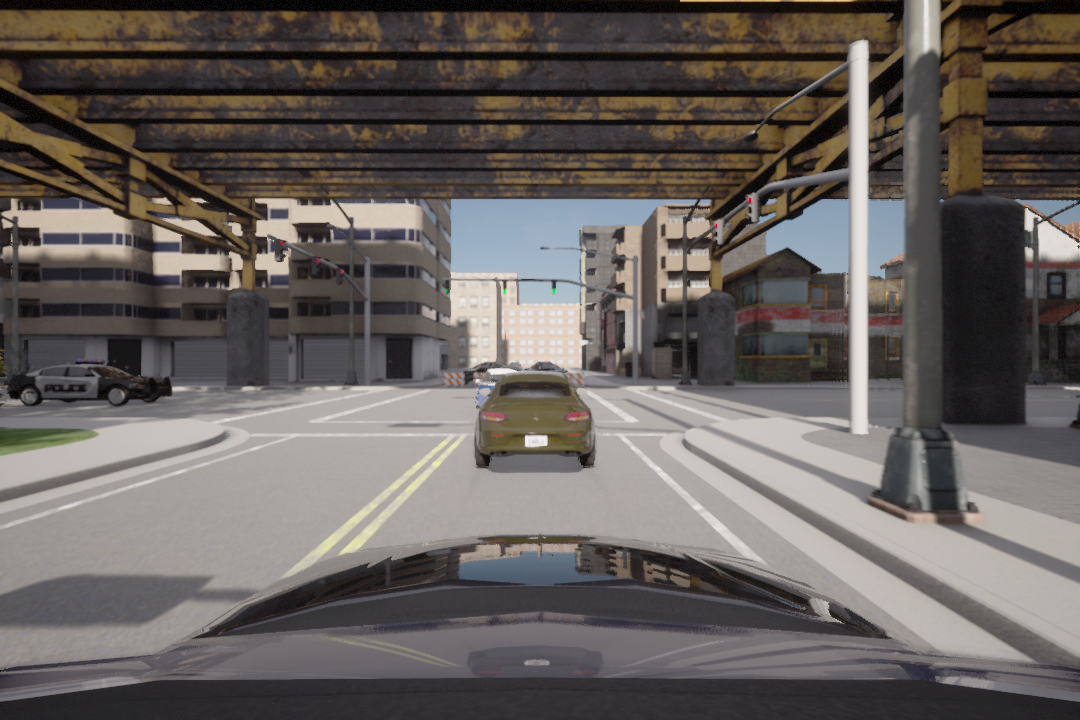TrafficLight: (741, 191, 757, 226), (271, 237, 287, 266), (710, 217, 723, 247), (309, 254, 322, 278), (335, 266, 348, 287), (444, 279, 453, 295), (501, 281, 509, 296), (550, 278, 557, 294)
